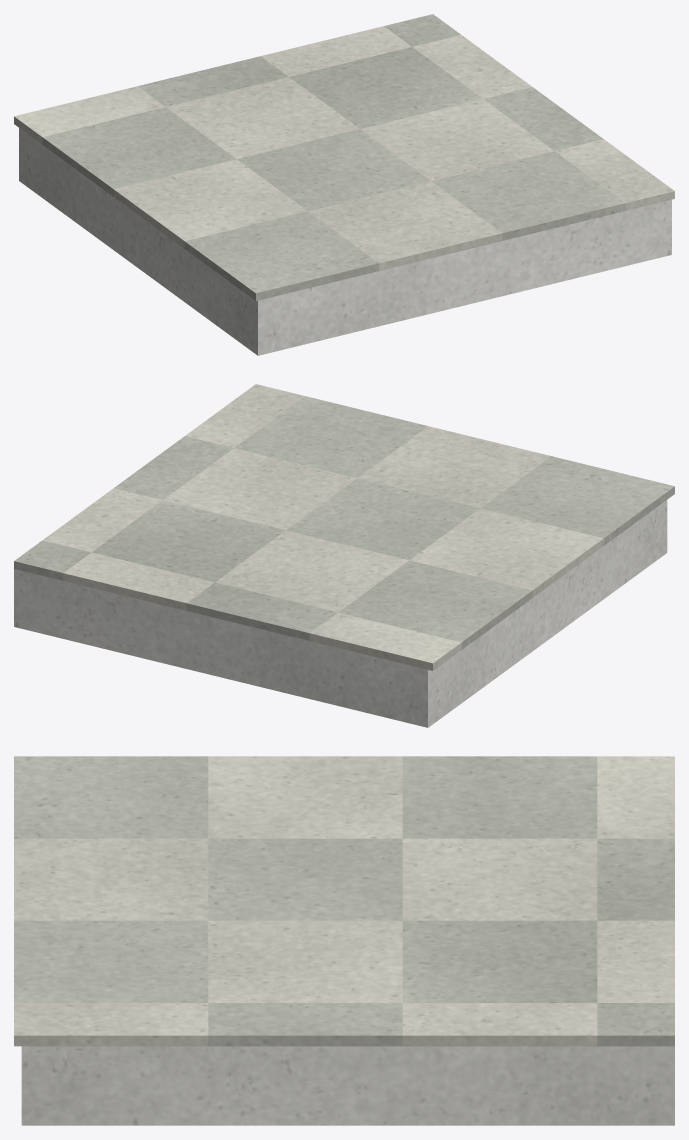
File: floor_vct_u_e0_30_30_0.glb
The picture shows the model from 3 angles, top to bottom: view 1: azimuth 30°, elevation 25°; view 2: azimuth 150°, elevation 25°; view 3: azimuth 270°, elevation 25°; orthographic projection. The views are drawn at different scales.
Visible parts, largest first — view 1: floor_vct_u_e0_30_30_0_vct2, floor_vct_u_e0_30_30_0_vct, floor_vct_u_e0_30_30_0_plaster; view 2: floor_vct_u_e0_30_30_0_vct2, floor_vct_u_e0_30_30_0_vct, floor_vct_u_e0_30_30_0_plaster; view 3: floor_vct_u_e0_30_30_0_vct2, floor_vct_u_e0_30_30_0_vct, floor_vct_u_e0_30_30_0_plaster.
Part boxes in pixels (left/top/right/bottom): floor_vct_u_e0_30_30_0_vct2: left=42, top=14, right=625, bottom=300; floor_vct_u_e0_30_30_0_vct: left=14, top=26, right=674, bottom=270; floor_vct_u_e0_30_30_0_plaster: left=19, top=128, right=671, bottom=355; floor_vct_u_e0_30_30_0_vct2: left=14, top=396, right=674, bottom=649; floor_vct_u_e0_30_30_0_vct: left=43, top=384, right=603, bottom=670; floor_vct_u_e0_30_30_0_plaster: left=14, top=500, right=667, bottom=727; floor_vct_u_e0_30_30_0_vct2: left=14, top=756, right=674, bottom=1046; floor_vct_u_e0_30_30_0_vct: left=14, top=756, right=674, bottom=1046; floor_vct_u_e0_30_30_0_plaster: left=21, top=1046, right=674, bottom=1125.
Size of the model in its own units: 1.7 by 0.255 by 1.7.
3 materials, 3 textured.
